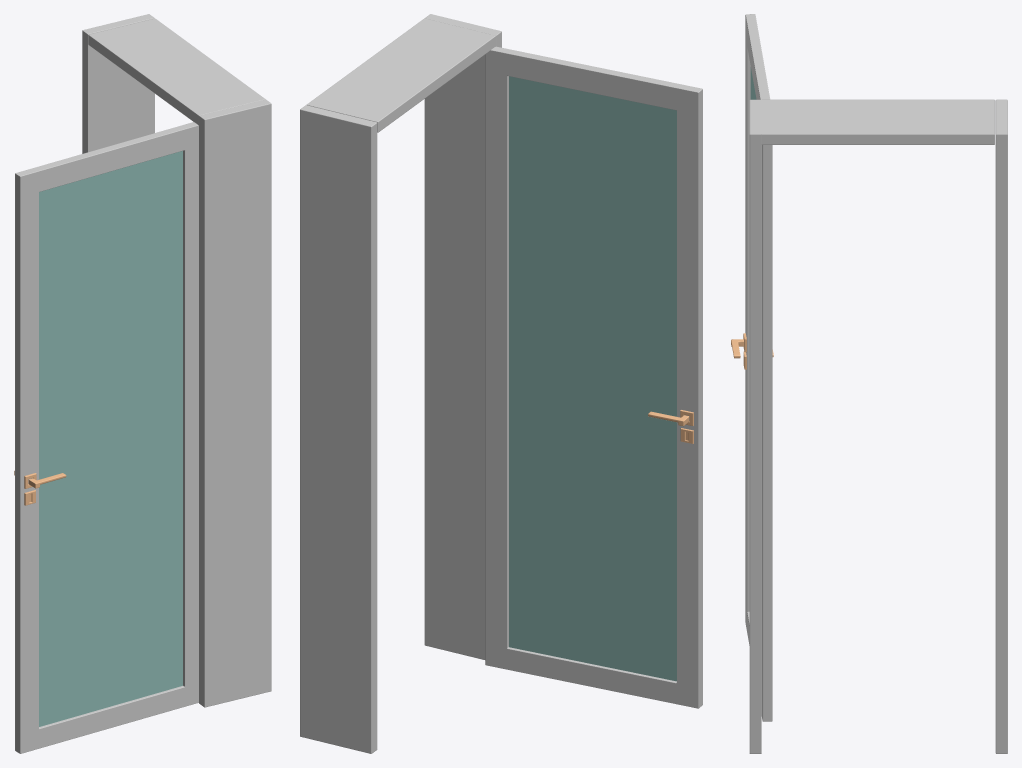
File: DOOR_corridor.FBX
The picture shows the model from 3 angles, left to right: view 1: azimuth 30°, elevation 25°; view 2: azimuth 150°, elevation 25°; view 3: azimuth 270°, elevation 25°; orthographic projection. The views are drawn at different scales.
Parts seen in each view (by area): view 1: DOOR_corridor; view 2: DOOR_corridor; view 3: DOOR_corridor.
Boxes of the visible parts, x1,y1,x2,y2 form: DOOR_corridor: [14, 14, 271, 753]; DOOR_corridor: [300, 14, 702, 753]; DOOR_corridor: [731, 14, 1007, 753].
Bounding box in the file's own units: 108 × 96.99 × 240.
